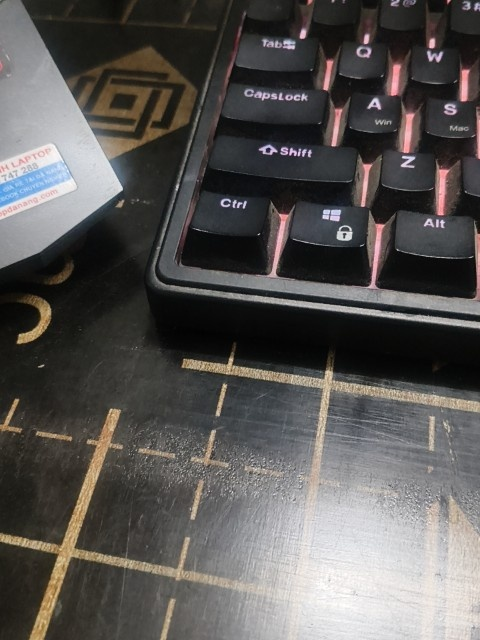keyboard: (148, 1, 477, 361)
